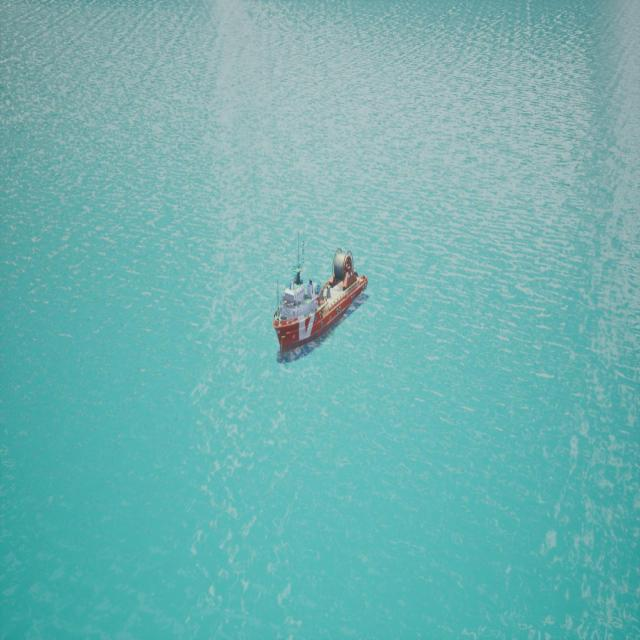tug boat: (271, 262, 370, 366)
